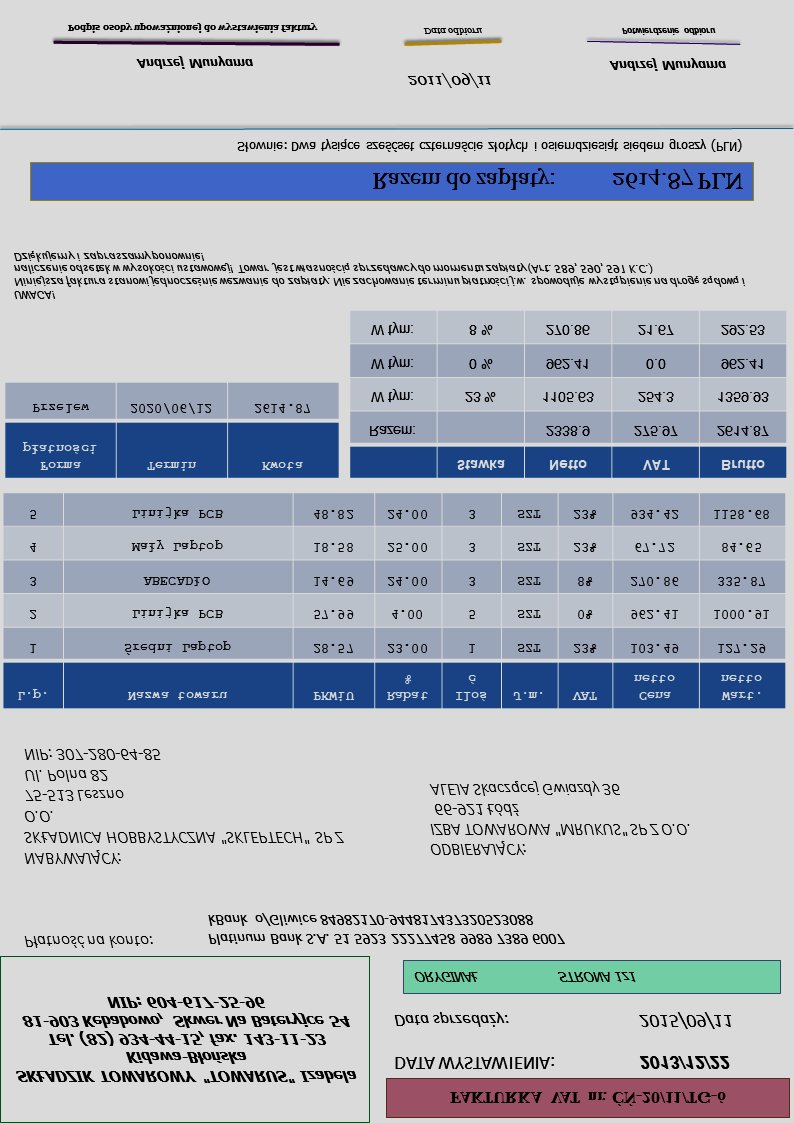Table: (1, 491, 787, 710), (347, 306, 789, 482), (3, 381, 341, 480)
TextBox: (20, 744, 348, 871), (11, 249, 751, 304), (13, 991, 362, 1089), (427, 777, 692, 861), (204, 909, 567, 949), (234, 133, 744, 158), (370, 165, 745, 197), (445, 1087, 727, 1110), (411, 967, 638, 990), (390, 1051, 554, 1077), (64, 21, 319, 36), (391, 1009, 511, 1033), (21, 932, 154, 953), (636, 1009, 734, 1034), (131, 54, 259, 73), (607, 55, 728, 74), (636, 1051, 732, 1074), (403, 71, 493, 92), (618, 24, 716, 39), (420, 22, 485, 40)
